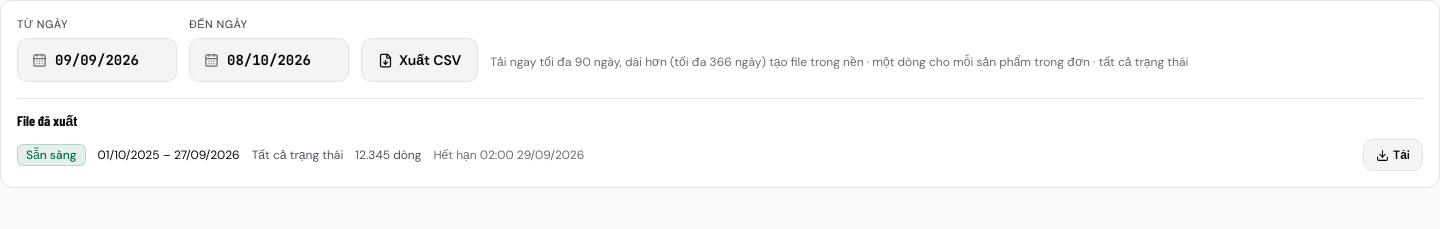
Test: OrderExportPanel — background jobs (T5) › tells the user to re-create a file that expired since the last poll
Step 1. Click the button "Tải" → x=1393, y=155, box left=1363, top=139, right=1423, bottom=171
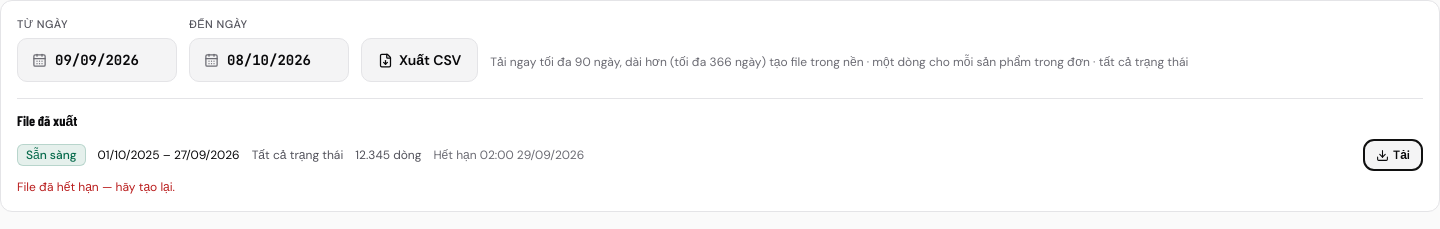
Check: the text "File đã hết hạn — hãy tạo lại." is shown, box left=17, top=179, right=175, bottom=195
